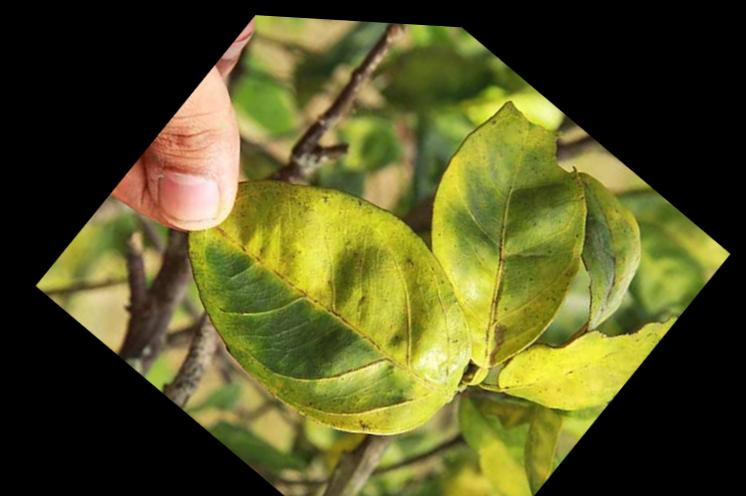Citrus Greening: (136, 108, 534, 496), (343, 67, 655, 394), (479, 235, 677, 446)
